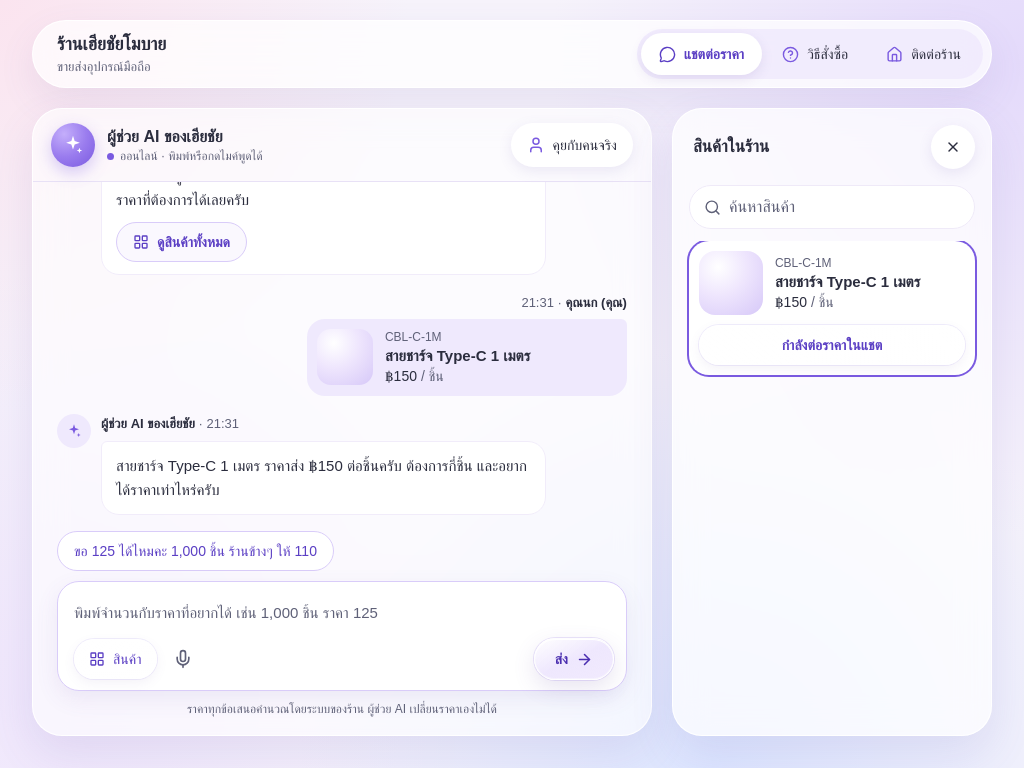
ChatScreen — คอม › ต่อราคาครบ flow: chip → 3 ข้อเสนอ → เลือก B → ยืนยัน → ใบสรุป
The image size is (1024, 768).
Click the button "ขอ 125 ได้ไหมคะ 1,000 ชิ้น ร้านข้างๆ ให้ 110": (195, 551) [57,531,334,571]
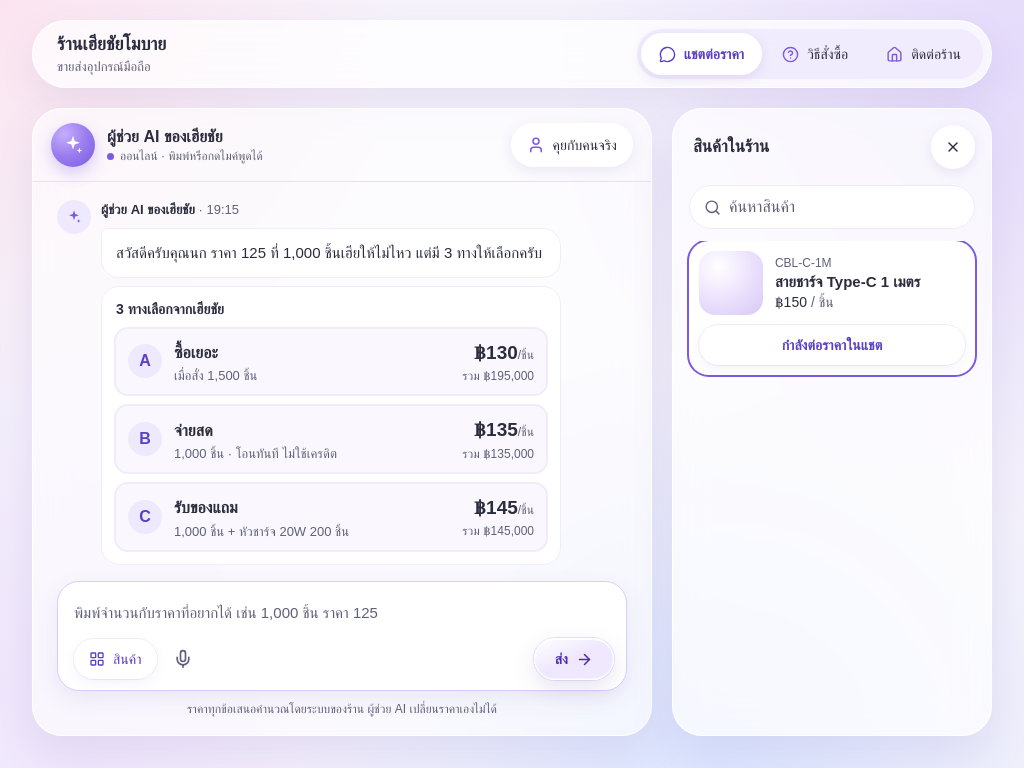
Click the button that starts with "จ่ายสด": (145, 439) [114,404,548,474]
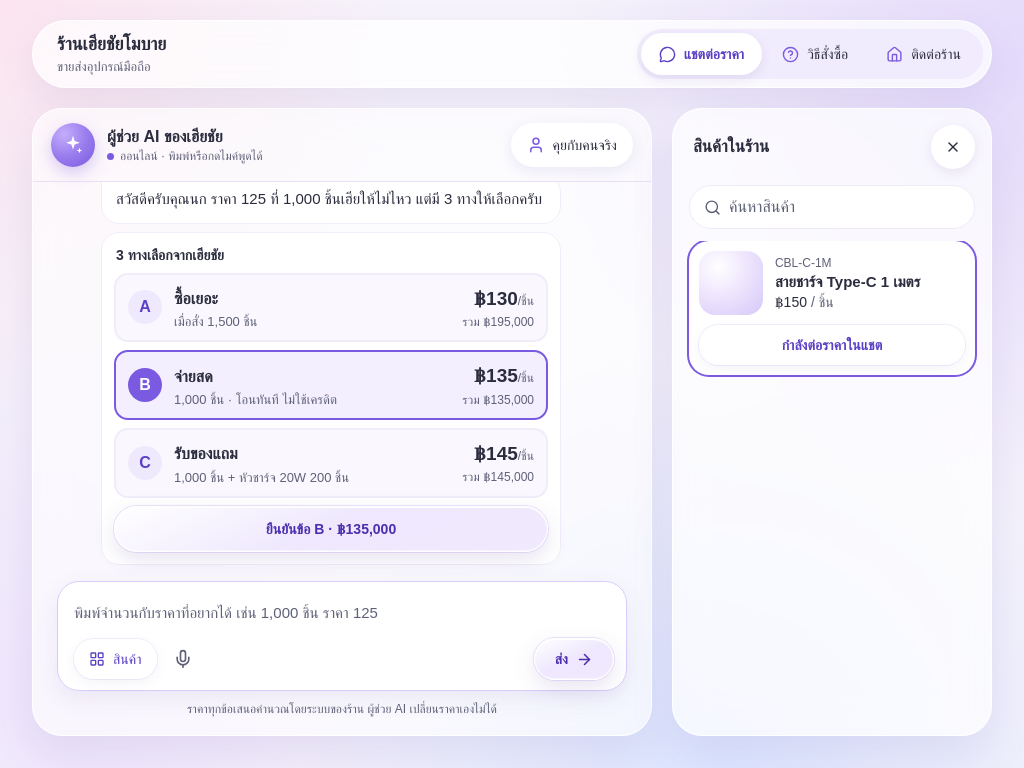
Click the button "ยืนยันข้อ B · ฿135,000": (331, 529) [114,506,548,552]
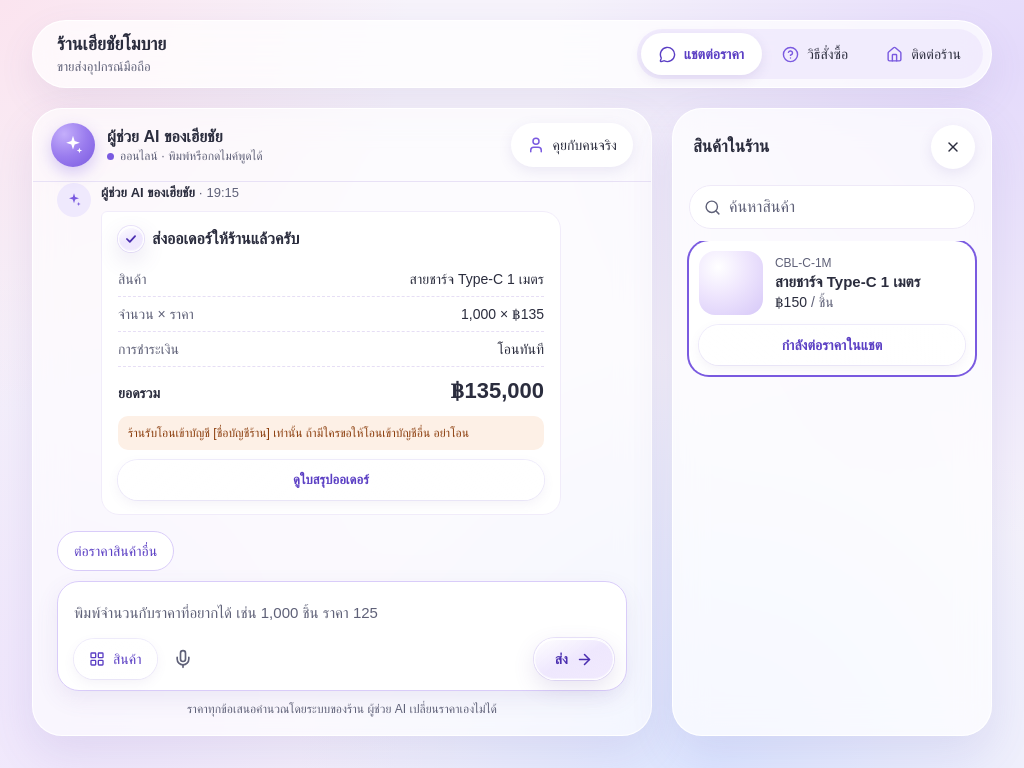
Now the text "ส่งออเดอร์ให้ร้านแล้วครับ" is shown, box [118,226,299,252]
Now the button "ต่อราคาสินค้าอื่น" is shown, box [57,531,174,571]
